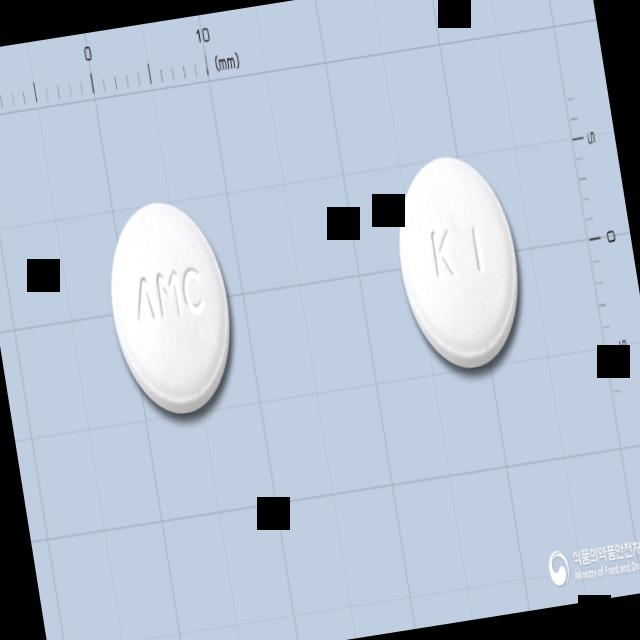Amocla 625mg: (384, 148, 534, 378), (97, 193, 246, 424)
